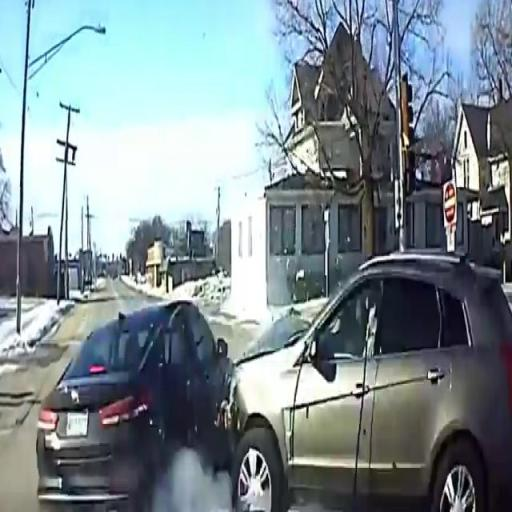小汽车撞小汽车: (37, 253, 502, 512)
